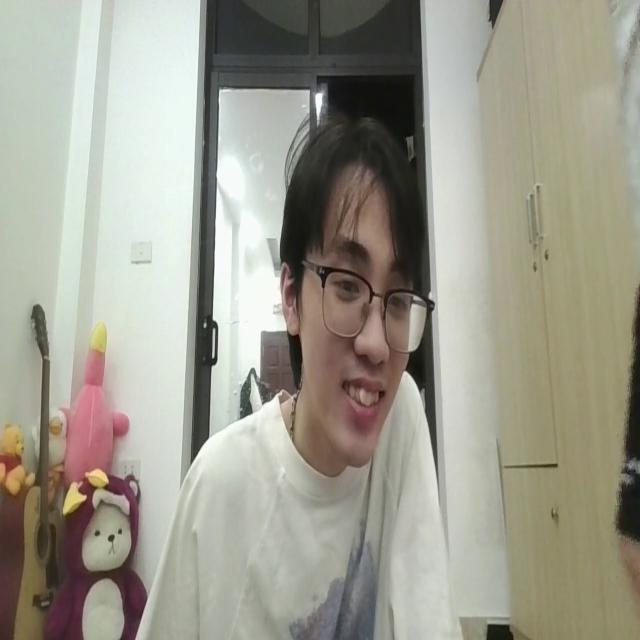student: (137, 102, 464, 640)
